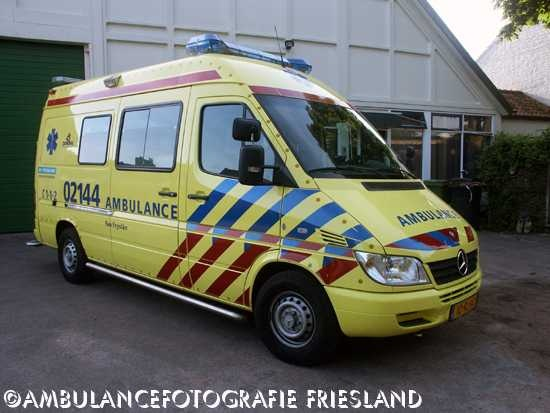Ambulance: (34, 56, 483, 374)
